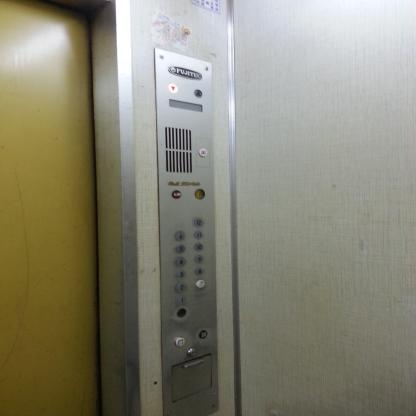1: (177, 296, 186, 304)
10: (195, 243, 202, 251)
11: (194, 231, 203, 239)
12: (194, 218, 202, 227)
2: (176, 283, 186, 291)
3: (176, 270, 185, 278)
4: (177, 257, 185, 266)
5: (176, 245, 185, 252)
6: (176, 232, 185, 241)
7: (196, 280, 204, 288)
8: (195, 268, 203, 275)
9: (194, 255, 203, 263)
DO: (198, 330, 208, 338)
blur: (194, 189, 206, 199), (176, 308, 186, 317)
call: (199, 148, 207, 157)
down: (168, 82, 178, 94)
keyhole: (187, 348, 196, 357)
text: (172, 190, 182, 198)
unknown: (176, 337, 184, 346)
up: (193, 89, 202, 98)
